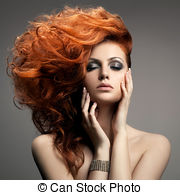face: (81, 26, 138, 113)
